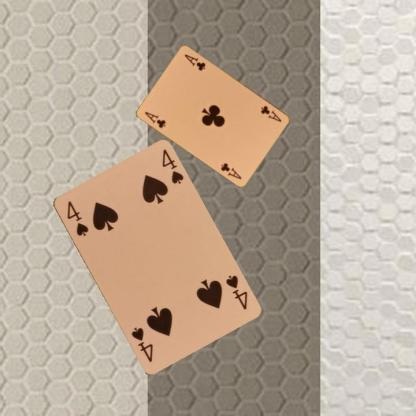4s: (64, 198, 90, 238), (223, 272, 249, 311)
Ac: (142, 108, 167, 130), (258, 103, 283, 123)
